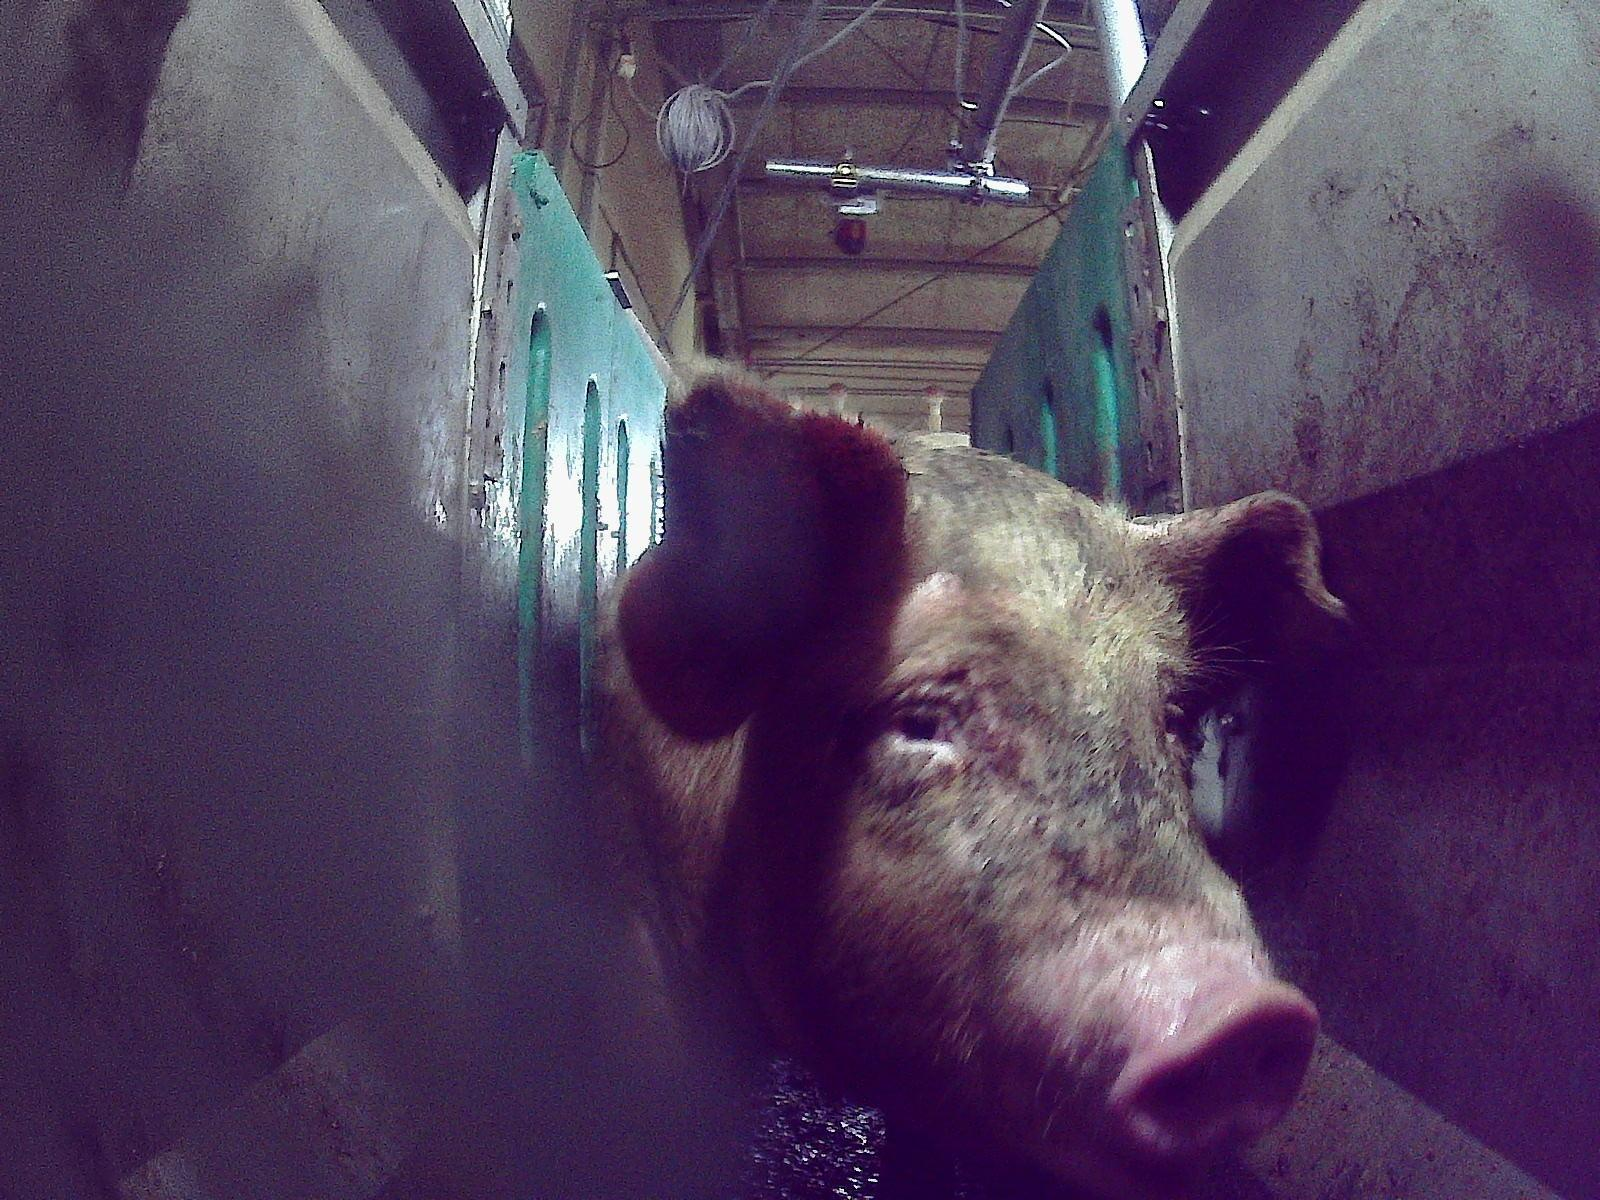Face: (743, 503, 1321, 1192)
